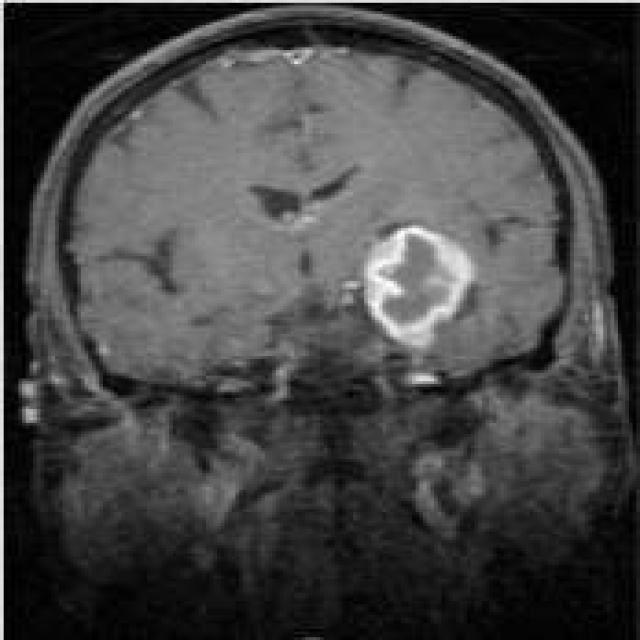meningioma: (342, 218, 487, 376)
